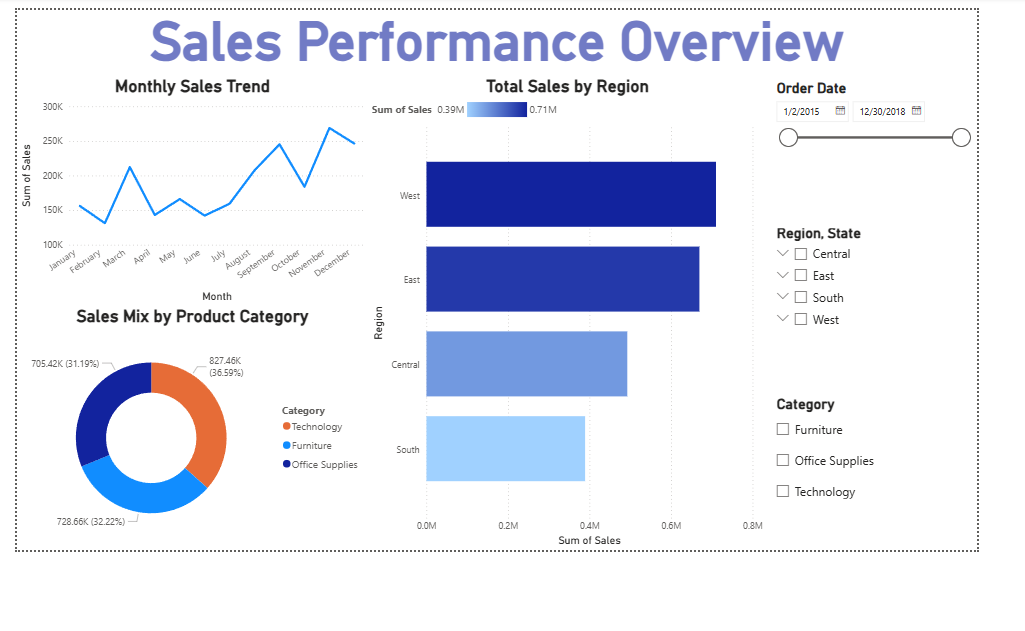

What the dashboard file says about the page in this screenshot:
{"tool":"powerbi","page":{"name":"Sales Performance Dashboard","canvas":[1280,720],"ordinal":0},"visuals":[{"type":"lineChart","title":"Monthly Sales Trend","fields":{"Category":["train.Order Date.Variation.Date Hierarchy.Month"],"Y":["Sum(train.Sales)"]},"box":[0,88.3,468.3,306.7],"z":0},{"type":"donutChart","title":"Sales Mix by Product Category","fields":{"Category":["train.Category"],"Y":["Sum(train.Sales)"]},"box":[0,395,468.3,325],"z":1},{"type":"barChart","title":"Total Sales by Region","fields":{"Y":["Sum(train.Sales)"],"Category":["train.Region","train.State"]},"box":[468.3,88.3,531.7,631.7],"z":2},{"type":"slicer","fields":{"Values":["train.Region","train.State"]},"box":[1000,281.7,280,228.3],"z":3},{"type":"slicer","fields":{"Values":["train.Category"]},"box":[1000,510,280,210],"z":4},{"type":"slicer","fields":{"Values":["train.Order Date"]},"box":[1000,88.3,280,201.7],"z":5},{"type":"textbox","title":"Sales Performance Overview","box":[0,0,1280,88.3],"z":6}]}

Visuals, with their boxes on the page's 1280x720 design canvas (x1, y1, x2, y2). These are canvas units, not pixel positions in the 1025x631 screenshot, which may show the page scaled, cropped or inside an application window:
"Monthly Sales Trend" lineChart: <bbox>0, 88, 468, 395</bbox>
"Sales Mix by Product Category" donutChart: <bbox>0, 395, 468, 720</bbox>
"Total Sales by Region" barChart: <bbox>468, 88, 1000, 720</bbox>
slicer - train.Region x train.State: <bbox>1000, 282, 1280, 510</bbox>
slicer - train.Category: <bbox>1000, 510, 1280, 720</bbox>
slicer - train.Order Date: <bbox>1000, 88, 1280, 290</bbox>
"Sales Performance Overview" textbox: <bbox>0, 0, 1280, 88</bbox>
